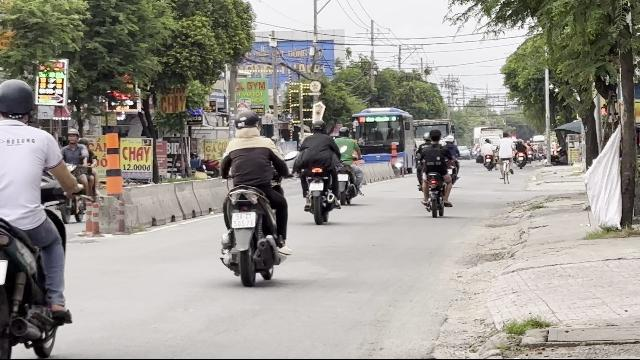helmet: (0, 78, 36, 123), (233, 108, 261, 136)
licenseplate: (231, 212, 255, 228)
motorcyclist: (215, 107, 292, 285)
